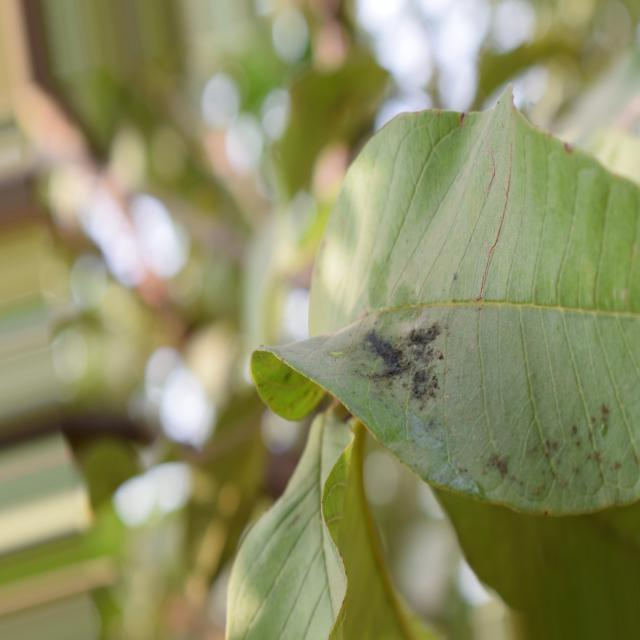Dot: (250, 88, 640, 516)
